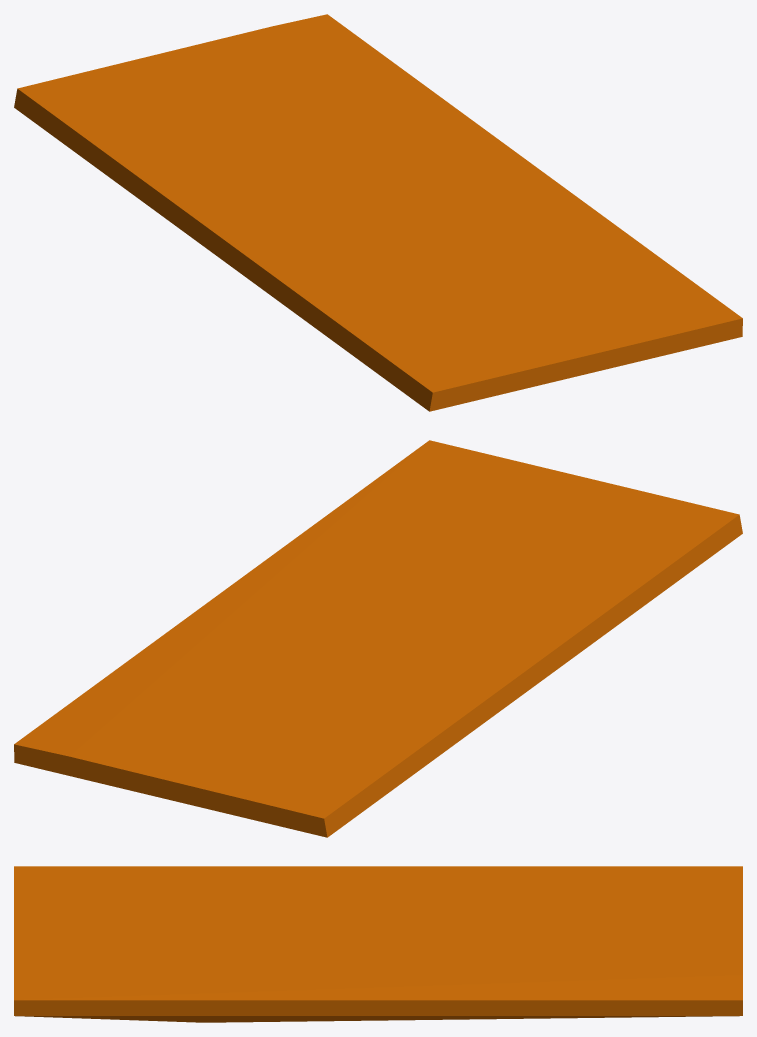
Rendered from garden_table_convex_piece_021.obj.
3 views of the same model, one above another, from view 1: azimuth 30°, elevation 25°; view 2: azimuth 150°, elevation 25°; view 3: azimuth 270°, elevation 25° (orthographic). The views are drawn at different scales.
Size of the model in its own units: 0.2473 by 0.0217 by 0.5677.
